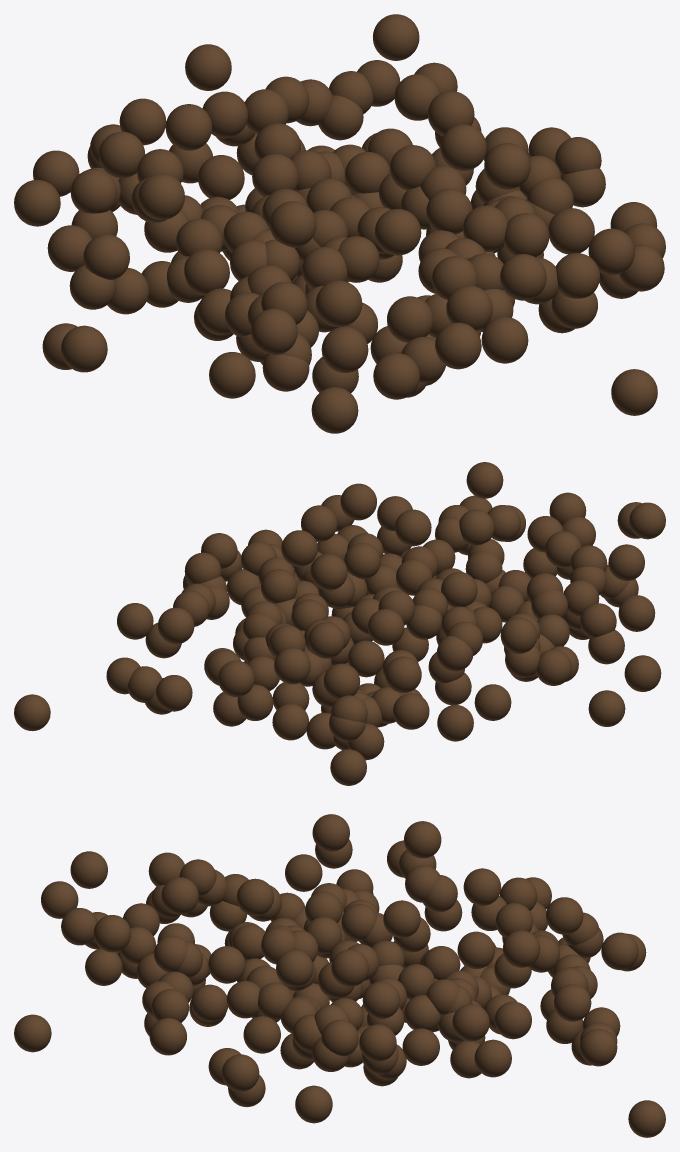
Rendered from sago.fbx.
The picture shows the model from 3 angles, top to bottom: view 1: azimuth 30°, elevation 25°; view 2: azimuth 150°, elevation 25°; view 3: azimuth 270°, elevation 25°; orthographic projection. The views are drawn at different scales.
Parts seen in each view (by area): view 1: sago.353, sago.377, sago.220, sago.203, sago.257, sago.196, sago.252, sago.373, sago.260, sago.263, sago.281, sago.248 (+91 smaller); view 2: sago.316, sago.198, sago.289, sago.304, sago.364, sago.373, sago.220, sago.319, sago.330, sago.252, sago.281, sago.308 (+83 smaller); view 3: sago.353, sago.363, sago.220, sago.321, sago.195, sago.292, sago.263, sago.301, sago.375, sago.208, sago.260, sago.319 (+80 smaller).
Boxes of the visible parts, x1,y1,x2,y2 form: sago.353: (611, 369, 657, 415); sago.377: (484, 143, 530, 189); sago.220: (185, 44, 231, 90); sago.203: (14, 179, 60, 226); sago.257: (373, 353, 419, 399); sago.196: (138, 173, 184, 220); sago.252: (209, 352, 255, 398); sago.373: (440, 124, 486, 170); sago.260: (321, 326, 368, 373); sago.263: (61, 325, 107, 372); sago.281: (500, 254, 546, 300); sago.248: (315, 280, 362, 326); sago.316: (157, 607, 194, 644); sago.198: (330, 749, 366, 785); sago.289: (156, 675, 192, 711); sago.304: (308, 622, 344, 658); sago.364: (395, 509, 431, 546); sago.373: (281, 530, 317, 566); sago.220: (218, 660, 254, 697); sago.319: (14, 694, 50, 731); sago.330: (117, 603, 153, 639); sago.252: (618, 595, 655, 631); sago.281: (466, 462, 503, 498); sago.308: (274, 647, 310, 684); sago.353: (14, 1014, 51, 1052); sago.363: (295, 1085, 332, 1123); sago.220: (601, 932, 638, 970); sago.321: (474, 1039, 511, 1077); sago.195: (546, 897, 583, 934); sago.292: (383, 900, 420, 937); sago.263: (285, 854, 322, 891); sago.301: (502, 930, 540, 967); sago.375: (221, 1054, 259, 1091); sago.208: (312, 814, 349, 851); sago.260: (70, 851, 107, 888); sago.319: (628, 1100, 665, 1137).
Bounding box in the file's own units: 2982 × 821 × 3466.
